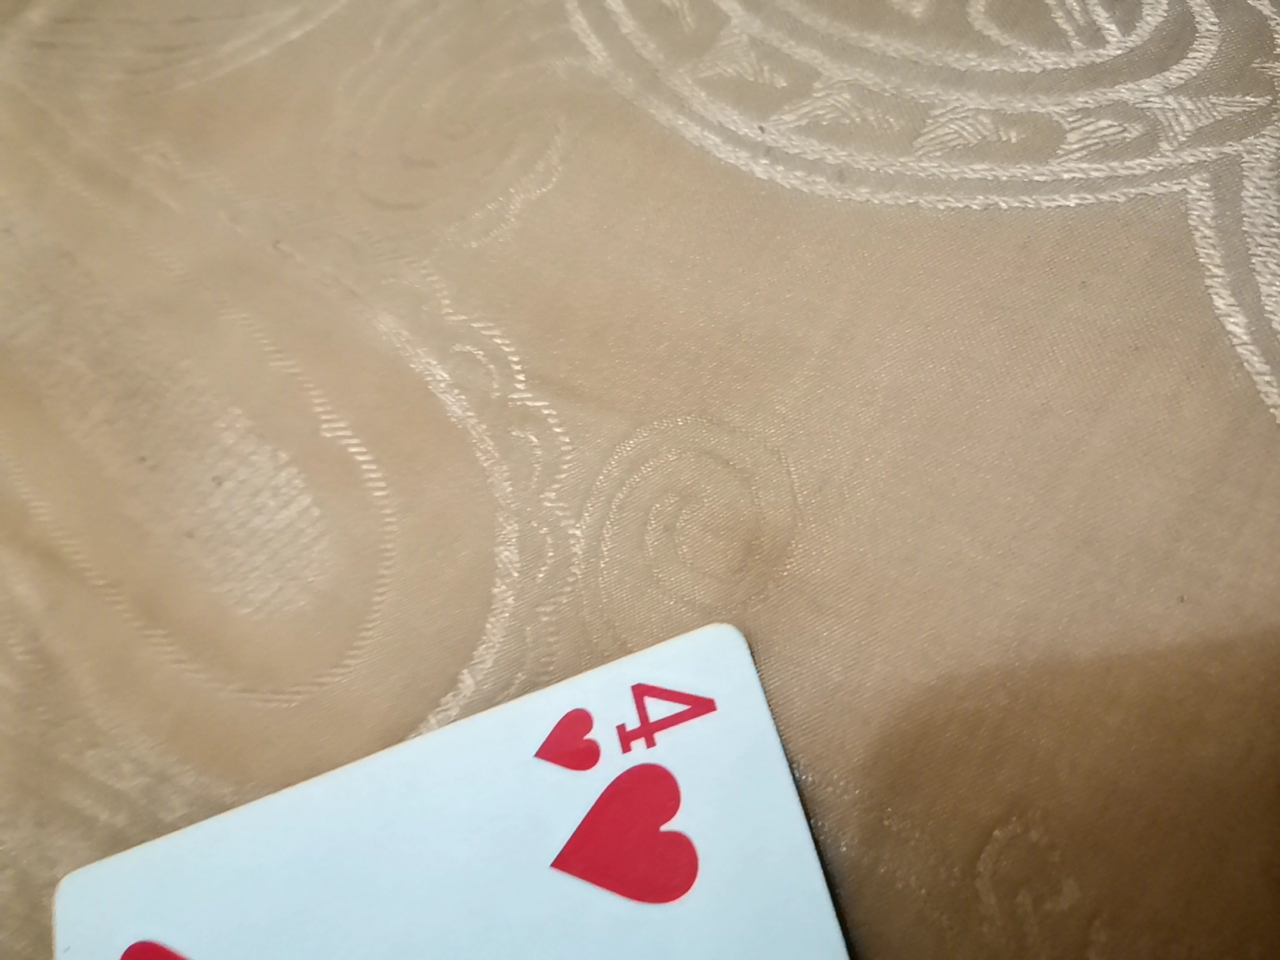hx 4: (21, 605, 983, 956)
